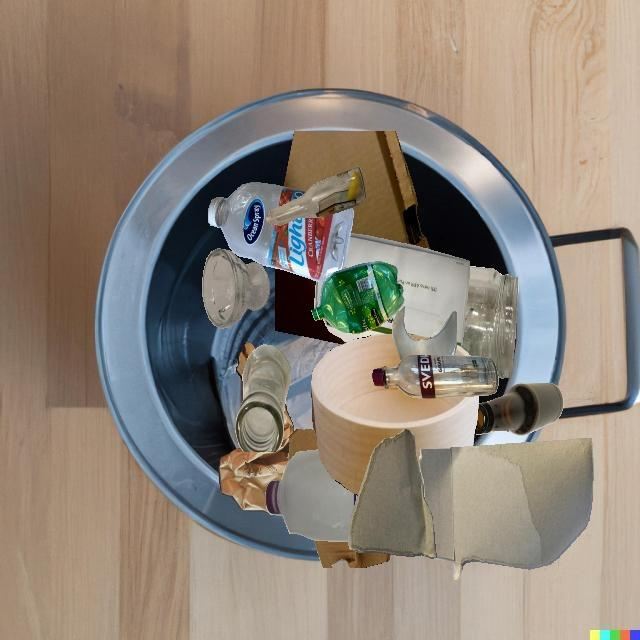cardboard: (419, 438, 594, 582), (283, 131, 430, 249), (348, 429, 437, 558), (275, 268, 346, 344), (314, 540, 391, 568), (287, 429, 318, 462)
combustible waste: (311, 347, 479, 495)
glass: (462, 266, 519, 378), (235, 344, 290, 452), (266, 167, 366, 226), (372, 355, 498, 399), (202, 248, 269, 329), (475, 383, 563, 436), (392, 307, 457, 360)
paper: (323, 233, 470, 347), (219, 403, 294, 513)
plastic: (208, 182, 354, 282), (265, 449, 358, 542), (311, 261, 405, 333)
